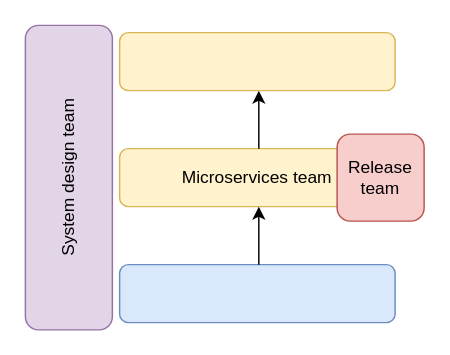
Image size: 450x355. Some labels were removed from this diagram. Each missing label, with the centre of its shape:
"API team" goes at [256,61].
"Platofrm team" goes at [256,293].
